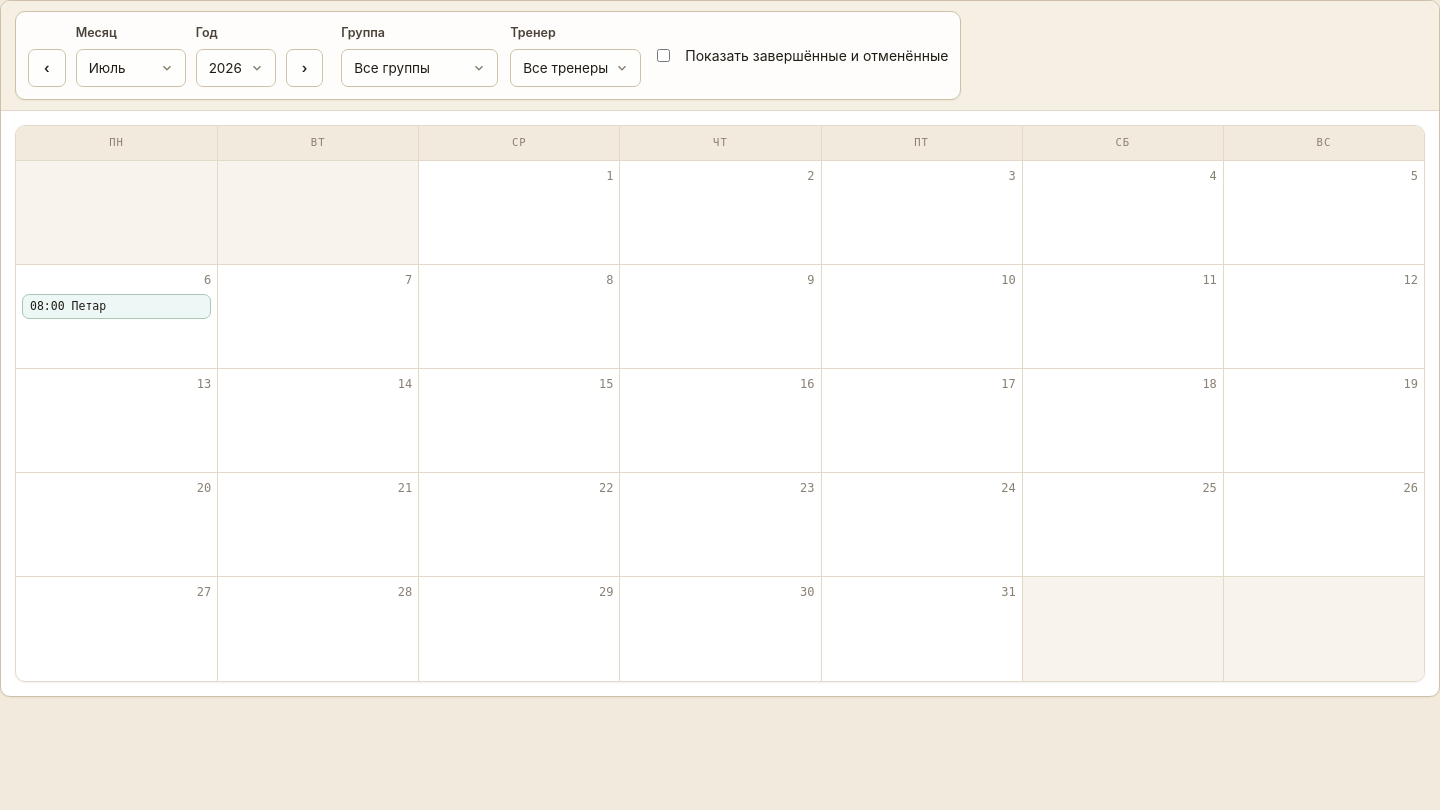
it: TrainingsCalendar › names an individual (1-on-1) event by its client on the chip and in the detail
This screenshot has width=1440, height=810.
Click the button with aria-label "2026-07-06 08:00–09:30" at (117, 306), box [22, 294, 211, 319]
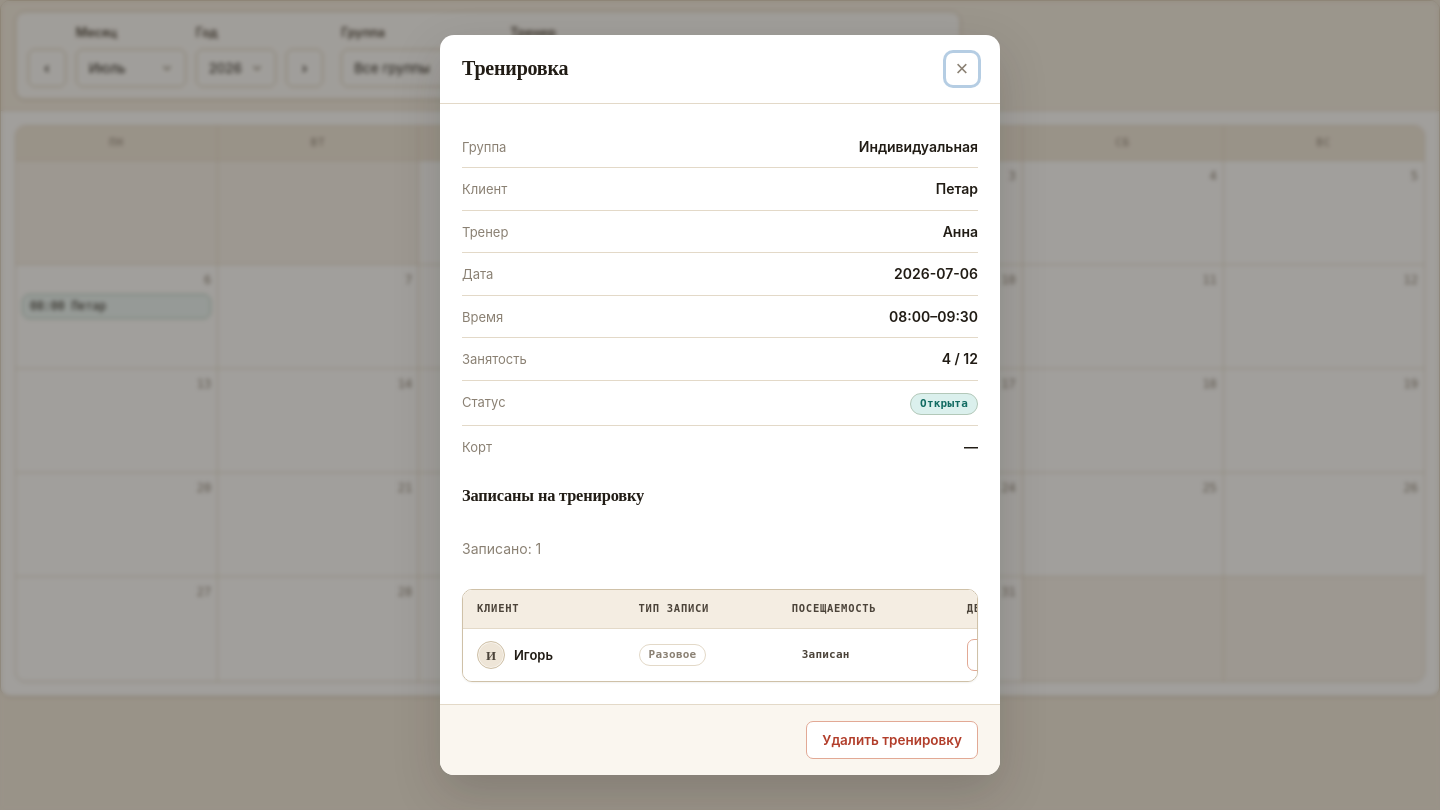
Expected: the text "Индивидуальная" is shown, [859, 136, 978, 157]
Expected: the text "Петар" is shown, [936, 178, 978, 199]
